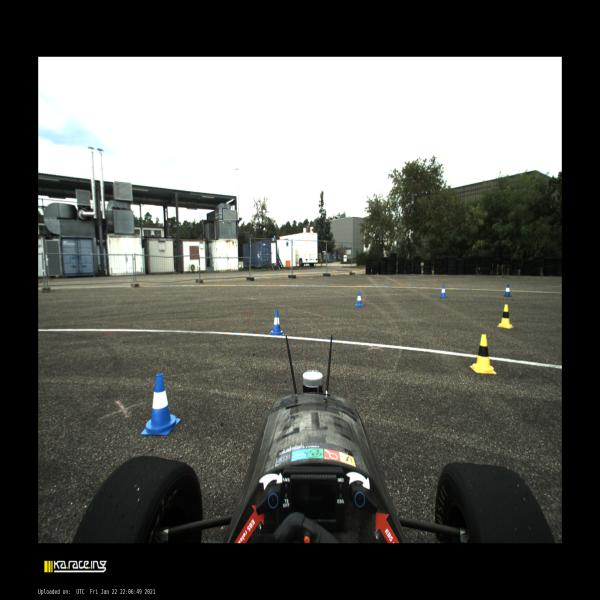blue_cone: (141, 374, 181, 434), (270, 310, 284, 336), (355, 291, 363, 307), (440, 285, 447, 298), (504, 284, 511, 297)
yellow_cone: (470, 334, 496, 374), (497, 304, 514, 329)
